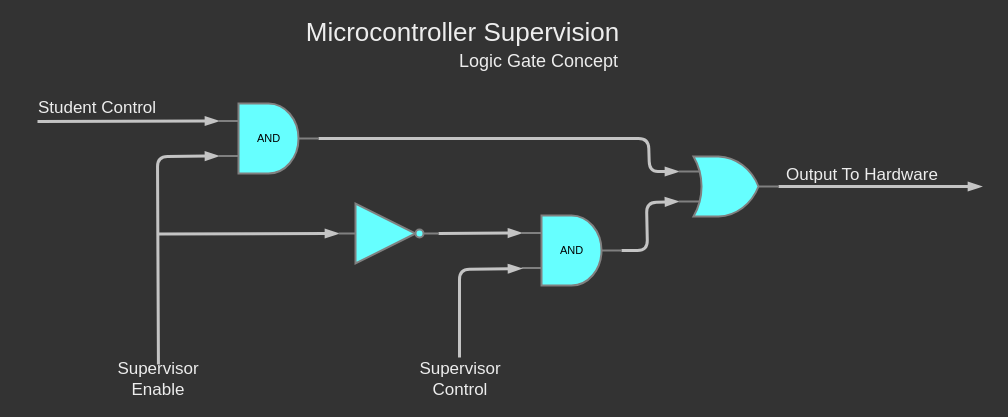
Some shapes in this 1008 by 417 pixel diagram are drawn without their labels. The centre of each missing label's shape, as x and y in pixels:
"NOT" goes at (x=388, y=233).
"OR" goes at (x=728, y=186).
